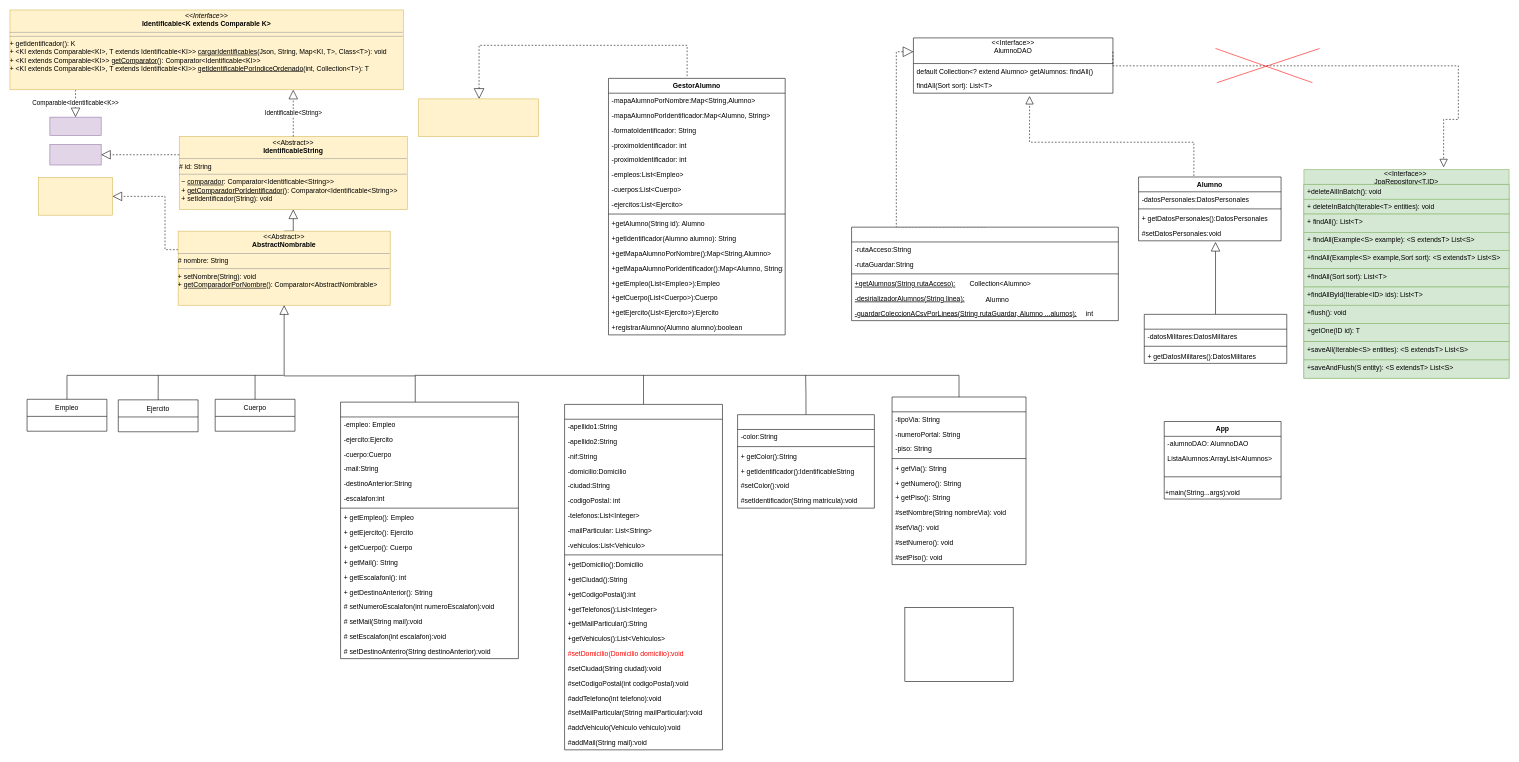
Some shapes in this 1519 by 762 pixel diagram are drawn without their labels. Each missing label, with the box of its shape:
<<Interface>> GeneradorIdentificadores<k> ~generarId(): k: (418, 98, 538, 137)
<<Interface>> Nombrable + getNombre(): String: (38, 177, 113, 215)
AlumnoMilitar: (1144, 314, 1287, 363)
DatosMilitares: (340, 402, 518, 659)
DatosPersonales: (564, 404, 722, 750)
Domicilio: (891, 396, 1026, 565)
Leyenda Java Nativo Lanyu Common Springframework: (904, 607, 1013, 681)
SerializadorCSV: (851, 227, 1118, 321)
Vehiculo: (737, 414, 874, 508)
«interface» Comparable: (49, 117, 101, 135)
«interface» Serializable: (49, 144, 101, 165)
